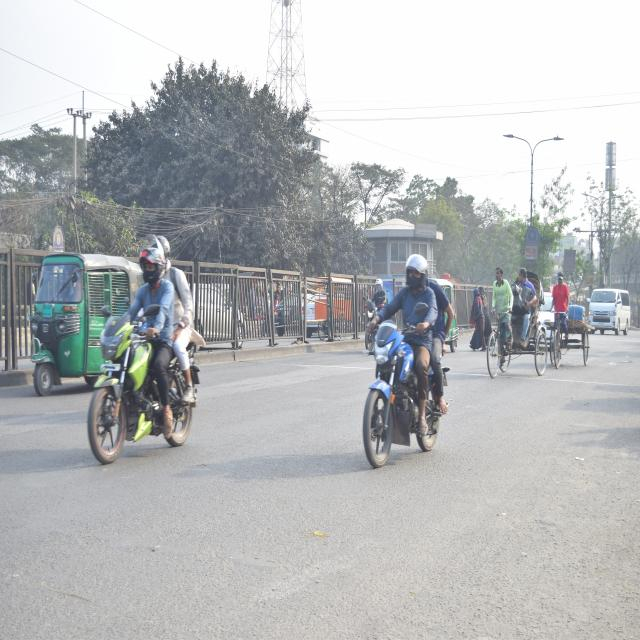microbus: (591, 280, 632, 340)
motorbike: (81, 299, 205, 476), (354, 315, 448, 475), (355, 292, 382, 354)
